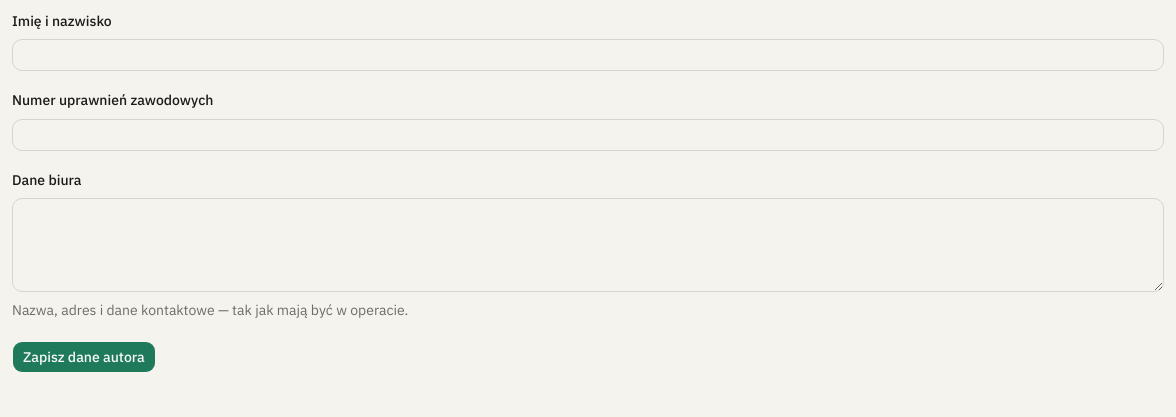
it: AuthorForm › pokazuje błąd pola zwrócony przez akcję
Step 1. Click the button "Zapisz dane autora" → (84, 357), box x1=12 y1=341 x2=156 y2=373
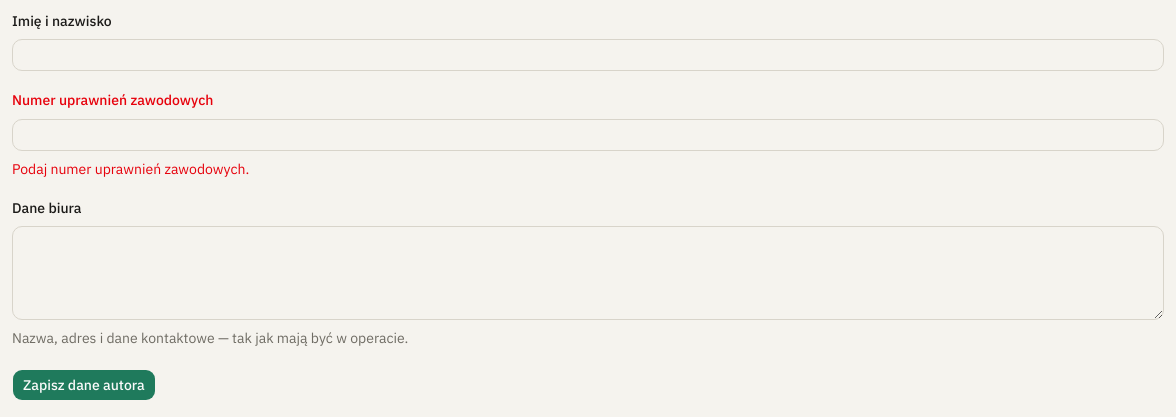
Expected: the text "Podaj numer uprawnień zawodowych." is shown, x1=12 y1=160 x2=249 y2=178
